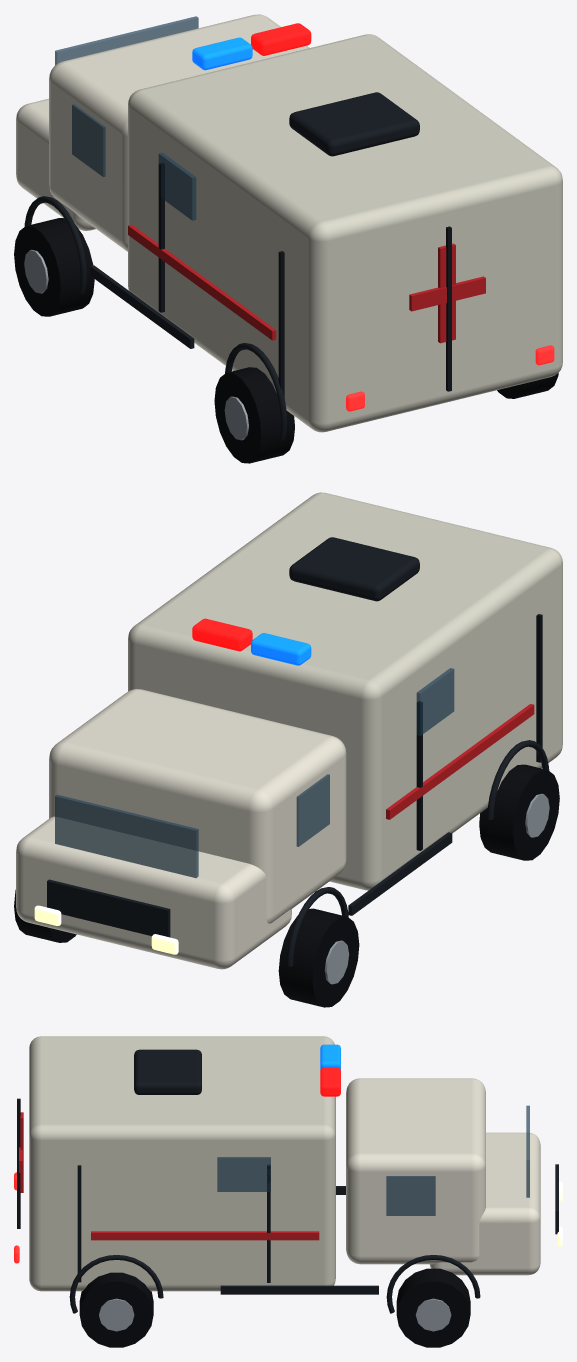
Rendered from emergency_ambulance_medium.glb.
3 renders of one model, top to bottom at view 1: azimuth 30°, elevation 25°; view 2: azimuth 150°, elevation 25°; view 3: azimuth 270°, elevation 25°, orthographic. The views are drawn at different scales.
Parts seen in each view (by area): view 1: emergency_ambulance_medium_medical_box_body_panel_with_round, emergency_ambulance_medium_forward_cab_body, emergency_ambulance_medium_roof_hvac_service_hatch_panel, emergency_ambulance_medium_front_left_wheel_tire, emergency_ambulance_medium_rear_left_wheel_tire, emergency_ambulance_medium_front_hood_body_panel, emergency_ambulance_medium_left_red_emergency_side_stripe_ma, emergency_ambulance_medium_front_windshield_glass, emergency_ambulance_medium_left_cab_side_window_glass, emergency_ambulance_medium_left_medical_box_side_service_win, emergency_ambulance_medium_left_step_board_dark_trim, emergency_ambulance_medium_blue_roof_lightbar_emitter (+11 smaller); view 2: emergency_ambulance_medium_medical_box_body_panel_with_round, emergency_ambulance_medium_forward_cab_body, emergency_ambulance_medium_front_hood_body_panel, emergency_ambulance_medium_front_windshield_glass, emergency_ambulance_medium_roof_hvac_service_hatch_panel, emergency_ambulance_medium_front_left_wheel_tire, emergency_ambulance_medium_rear_left_wheel_tire, emergency_ambulance_medium_front_grille_dark_trim, emergency_ambulance_medium_left_red_emergency_side_stripe_ma, emergency_ambulance_medium_left_medical_box_side_service_win, emergency_ambulance_medium_left_cab_side_window_glass, emergency_ambulance_medium_left_step_board_dark_trim (+9 smaller); view 3: emergency_ambulance_medium_medical_box_body_panel_with_round, emergency_ambulance_medium_forward_cab_body, emergency_ambulance_medium_front_hood_body_panel, emergency_ambulance_medium_front_right_wheel_tire, emergency_ambulance_medium_rear_right_wheel_tire, emergency_ambulance_medium_roof_hvac_service_hatch_panel, emergency_ambulance_medium_right_red_emergency_side_stripe_m, emergency_ambulance_medium_right_cab_side_window_glass, emergency_ambulance_medium_right_medical_box_side_service_wi, emergency_ambulance_medium_right_step_board_dark_trim, emergency_ambulance_medium_front_right_wheel_outer_hub, emergency_ambulance_medium_rear_right_wheel_outer_hub (+7 smaller).
Boxes of the visible parts, box(x1,y1,x2,y2) form: emergency_ambulance_medium_medical_box_body_panel_with_round: box(128, 34, 562, 432); emergency_ambulance_medium_forward_cab_body: box(49, 14, 309, 251); emergency_ambulance_medium_roof_hvac_service_hatch_panel: box(289, 92, 419, 156); emergency_ambulance_medium_front_left_wheel_tire: box(14, 218, 94, 316); emergency_ambulance_medium_rear_left_wheel_tire: box(214, 367, 294, 463); emergency_ambulance_medium_front_hood_body_panel: box(16, 98, 95, 230); emergency_ambulance_medium_left_red_emergency_side_stripe_ma: box(128, 224, 276, 340); emergency_ambulance_medium_front_windshield_glass: box(55, 16, 198, 65); emergency_ambulance_medium_left_cab_side_window_glass: box(72, 104, 105, 176); emergency_ambulance_medium_left_medical_box_side_service_win: box(158, 152, 196, 220); emergency_ambulance_medium_left_step_board_dark_trim: box(90, 265, 194, 348); emergency_ambulance_medium_blue_roof_lightbar_emitter: box(192, 37, 252, 70); emergency_ambulance_medium_medical_box_body_panel_with_round: box(128, 492, 562, 890); emergency_ambulance_medium_forward_cab_body: box(49, 689, 346, 923); emergency_ambulance_medium_front_hood_body_panel: box(16, 816, 291, 969); emergency_ambulance_medium_front_windshield_glass: box(55, 794, 198, 878); emergency_ambulance_medium_roof_hvac_service_hatch_panel: box(289, 537, 419, 601); emergency_ambulance_medium_front_left_wheel_tire: box(278, 908, 359, 1007); emergency_ambulance_medium_rear_left_wheel_tire: box(479, 764, 559, 860); emergency_ambulance_medium_front_grille_dark_trim: box(47, 879, 170, 937); emergency_ambulance_medium_left_red_emergency_side_stripe_ma: box(386, 704, 534, 819); emergency_ambulance_medium_left_medical_box_side_service_win: box(416, 668, 454, 735); emergency_ambulance_medium_left_cab_side_window_glass: box(296, 774, 329, 846); emergency_ambulance_medium_left_step_board_dark_trim: box(348, 832, 452, 915); emergency_ambulance_medium_medical_box_body_panel_with_round: box(29, 1036, 335, 1291); emergency_ambulance_medium_forward_cab_body: box(346, 1078, 485, 1264); emergency_ambulance_medium_front_hood_body_panel: box(429, 1132, 540, 1275); emergency_ambulance_medium_front_right_wheel_tire: box(396, 1268, 470, 1347); emergency_ambulance_medium_rear_right_wheel_tire: box(79, 1272, 153, 1347); emergency_ambulance_medium_roof_hvac_service_hatch_panel: box(134, 1049, 201, 1094); emergency_ambulance_medium_right_red_emergency_side_stripe_m: box(91, 1231, 319, 1240); emergency_ambulance_medium_right_cab_side_window_glass: box(386, 1176, 435, 1215); emergency_ambulance_medium_right_medical_box_side_service_wi: box(217, 1157, 270, 1191); emergency_ambulance_medium_right_step_board_dark_trim: box(220, 1285, 378, 1294); emergency_ambulance_medium_front_right_wheel_outer_hub: box(415, 1298, 451, 1331); emergency_ambulance_medium_rear_right_wheel_outer_hub: box(99, 1298, 134, 1331).
Size of the model in its own units: 2.68 by 2.42 by 5.33.
